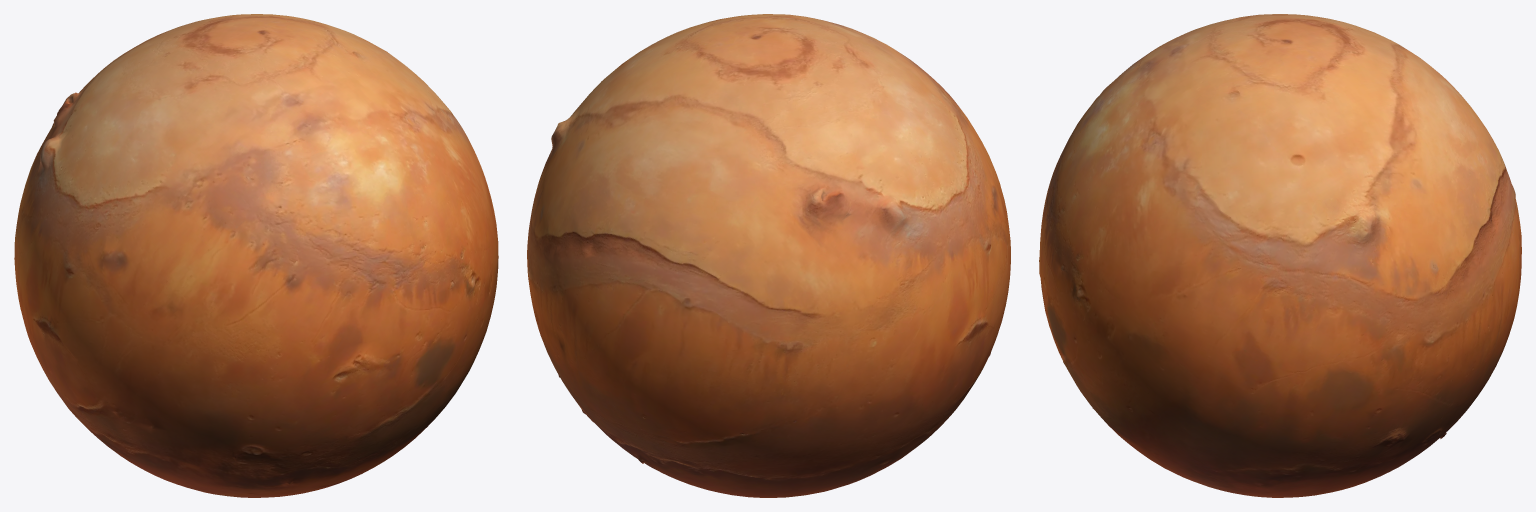
Rendered from desert_planet_6.glb.
The picture shows the model from 3 angles, left to right: view 1: azimuth 30°, elevation 25°; view 2: azimuth 150°, elevation 25°; view 3: azimuth 270°, elevation 25°; orthographic projection.
Parts seen in each view (by area): view 1: Mesh_0.013; view 2: Mesh_0.013; view 3: Mesh_0.013.
Boxes of the visible parts, <box> form: Mesh_0.013: <box>14,14,498,497</box>; Mesh_0.013: <box>527,14,1010,497</box>; Mesh_0.013: <box>1039,14,1521,497</box>.
Bounding box in the file's own units: 2 × 2 × 2.
Materials: 1 (1 with a texture image).
